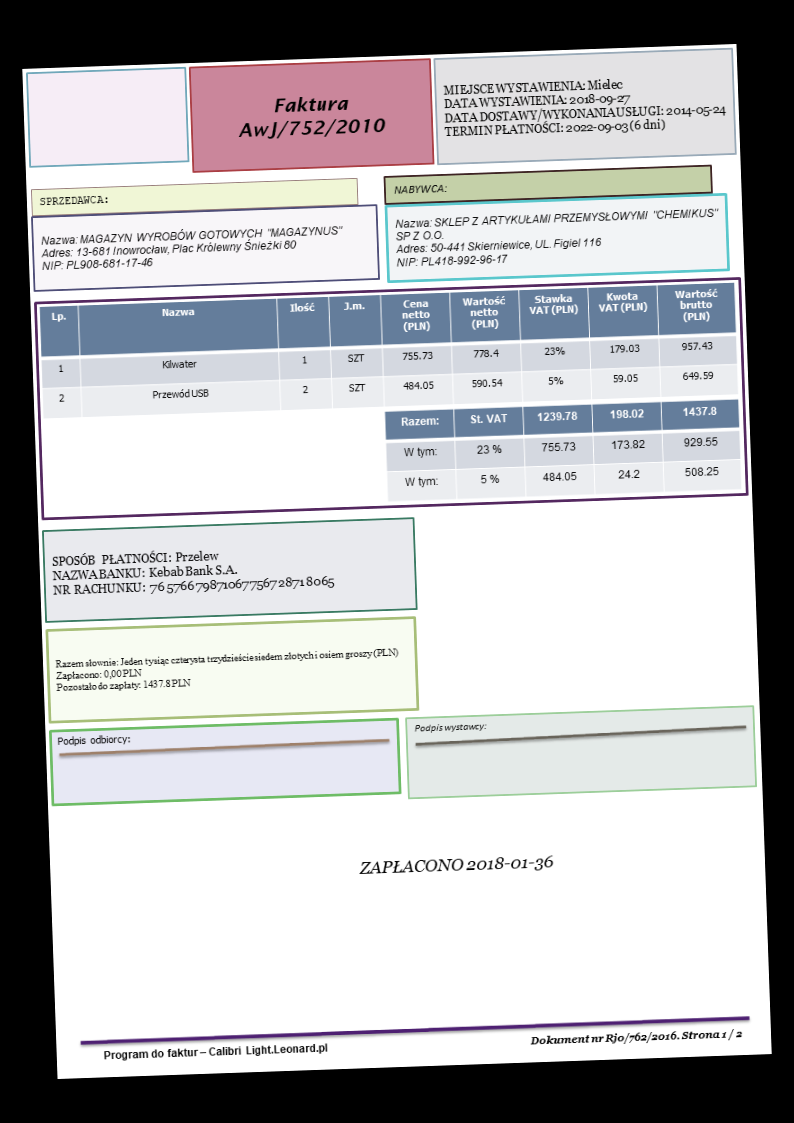Table: (39, 282, 739, 419), (383, 397, 743, 503)
TextBox: (391, 204, 722, 269), (441, 70, 729, 142), (50, 539, 336, 601), (54, 645, 402, 695), (39, 222, 347, 274), (234, 89, 390, 143), (101, 1038, 331, 1064), (355, 850, 559, 879), (529, 1024, 745, 1050), (55, 728, 132, 749), (36, 189, 110, 209), (411, 717, 486, 735), (390, 178, 448, 197)
